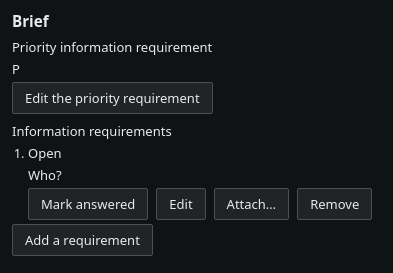
Test: CaseBrief › removes a requirement only after a confirmation, and Keep leaves it
The width and height of the screenshot is (393, 273).
Click the button with aria-label "Remove requirement 1" at [335, 204], box [297, 188, 372, 220]
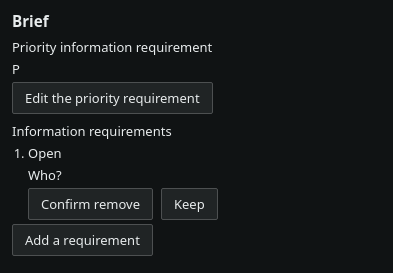
Click the button with aria-label "Keep requirement 1" at [189, 204], box [161, 188, 218, 220]
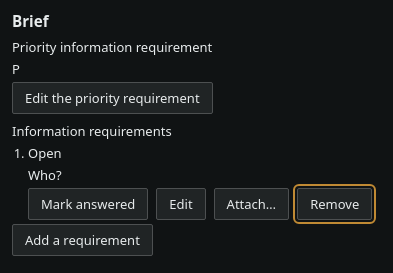
Expected: the text "Who?" is shown, [28, 166, 62, 184]
Click the button with aria-label "Remove requirement 1" at [335, 204], box [297, 188, 372, 220]
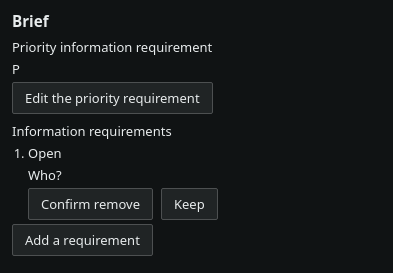
Click the button with aria-label "Confirm remove requirement 1" at [90, 204], box [28, 188, 153, 220]
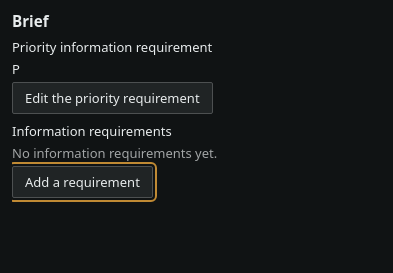
Result: the text "Who?" is gone
